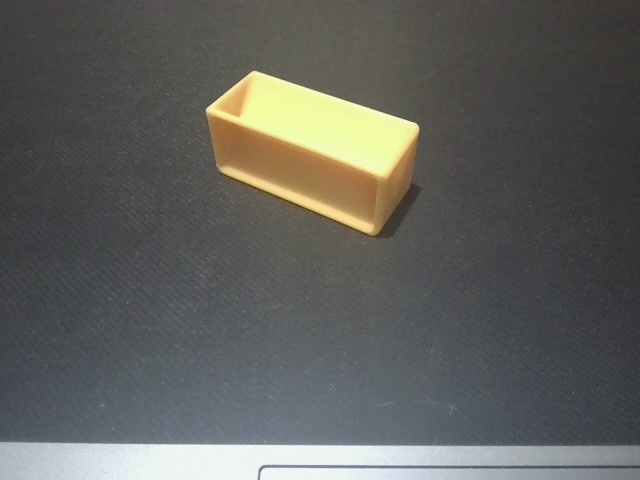YellowSample: (201, 68, 426, 241)
